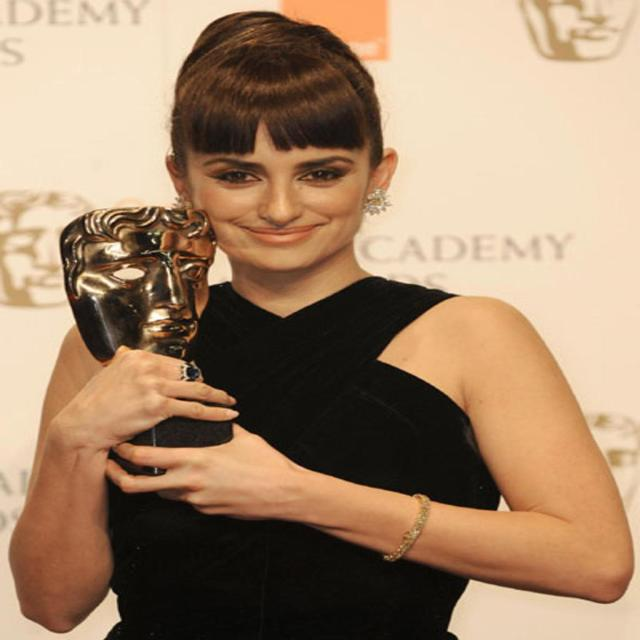Face: (181, 124, 371, 269)
